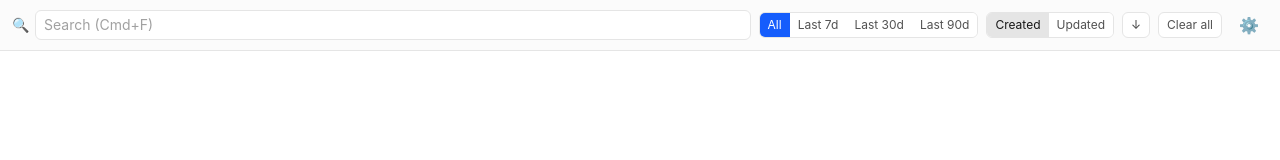
Test: page:page-main spec#tp-search-query-input (bug:ori-fdhh) › spec#tp-search-query-input — Clear all で入力欄が空になり clear_all を送る
Type "abc" into the search field named "Search".
click(393, 25); type("abc")  # box [35, 10, 751, 40]
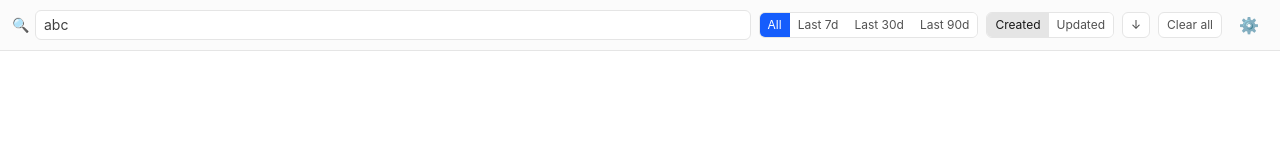
Click the button with aria-label "Clear all filters".
click(1190, 25)  # box [1158, 12, 1222, 38]
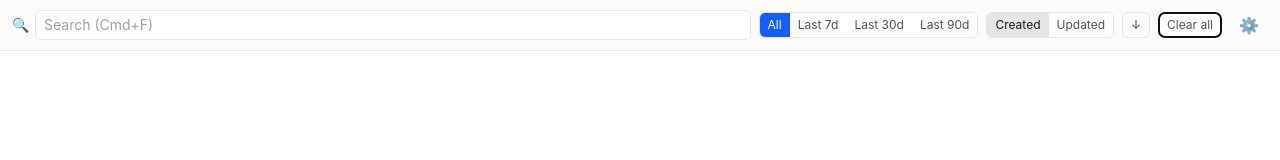
Now the search field named "Search" is empty, box [35, 10, 751, 40]
